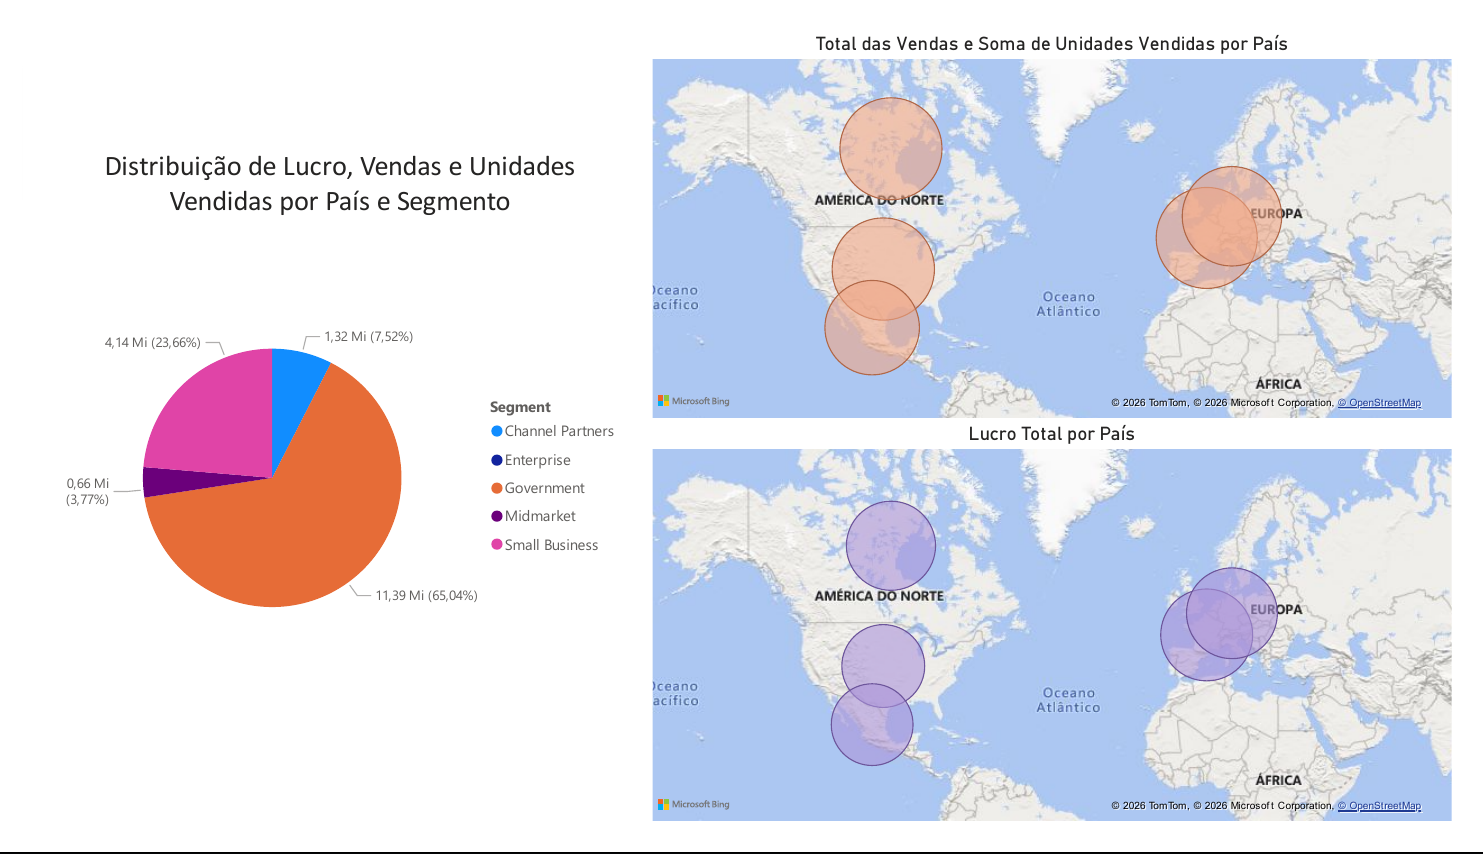

What the dashboard file says about the page in this screenshot:
{"tool":"powerbi","page":{"name":"Página 3","canvas":[1280,720],"ordinal":2},"visuals":[{"type":"pieChart","title":"Distribuição de Lucro, Vendas e Unidades Vendidas por País e Segmento","fields":{"Y":["Sum(financials.Profit)"],"Series":["financials.Segment"]},"box":[22.7,114.7,520,526.7],"z":0},{"type":"map","title":"Total das Vendas e Soma de Unidades Vendidas por País","fields":{"Category":["financials.Country"],"Size":["Sum(financials.Sales)"]},"box":[557.3,10.7,722.7,349.3],"z":2},{"type":"map","title":"Lucro Total por País","fields":{"Size":["Sum(financials.Profit)"],"Category":["financials.Country"]},"box":[557.3,360,722.7,360],"z":3}]}

Visuals, with their boxes in screenshot pixels (x1, y1, x2, y2), scaled from the page's 1280x720 canvas onto the 1483x854 screenshot:
"Distribuição de Lucro, Vendas e Unidades Vendidas por País e Segmento" pieChart: {"x1": 26, "y1": 136, "x2": 629, "y2": 761}
"Total das Vendas e Soma de Unidades Vendidas por País" map: {"x1": 646, "y1": 13, "x2": 1482, "y2": 427}
"Lucro Total por País" map: {"x1": 646, "y1": 427, "x2": 1482, "y2": 853}
